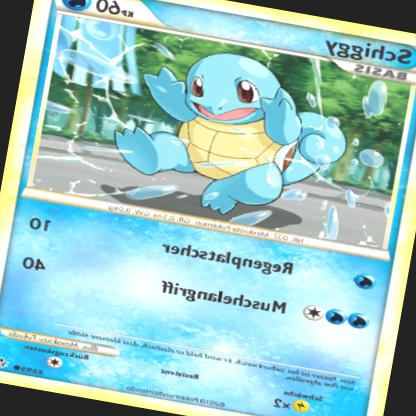Squirtle: (95, 34, 370, 239)
